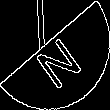N_NW: (26, 23, 84, 87)
